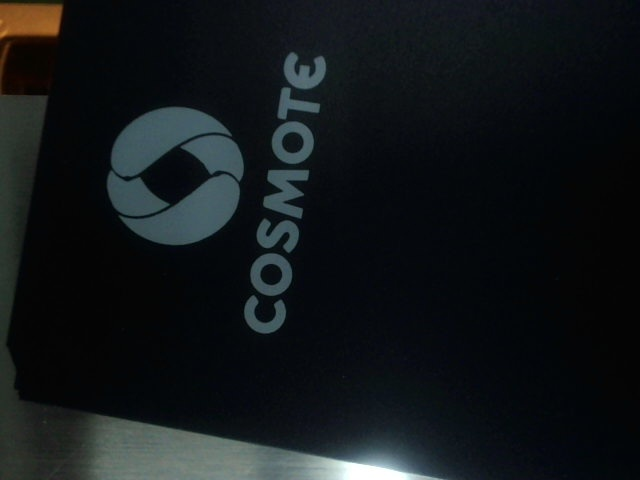AU_COSMOTE: (103, 39, 330, 335)
